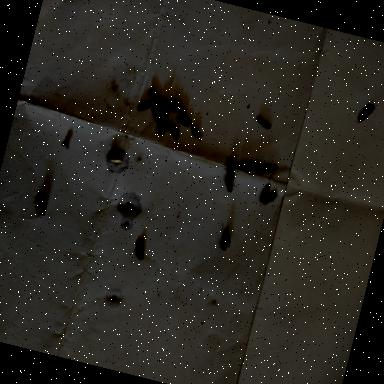pbw: (236, 160, 265, 178), (129, 238, 147, 264), (358, 102, 376, 126), (262, 188, 278, 208), (164, 120, 181, 138), (136, 98, 153, 115), (187, 126, 204, 143), (221, 226, 234, 248), (146, 88, 164, 103), (258, 181, 270, 203), (34, 196, 47, 216), (255, 116, 273, 130), (175, 115, 191, 128), (166, 97, 182, 109), (106, 154, 123, 165), (156, 114, 166, 132), (153, 100, 168, 110), (173, 105, 188, 114)
